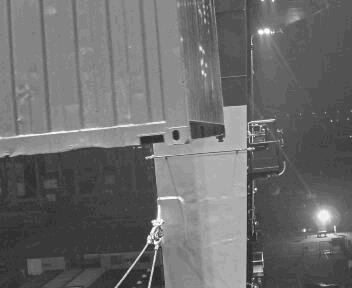twist_lock_1: (190, 140, 215, 159)
